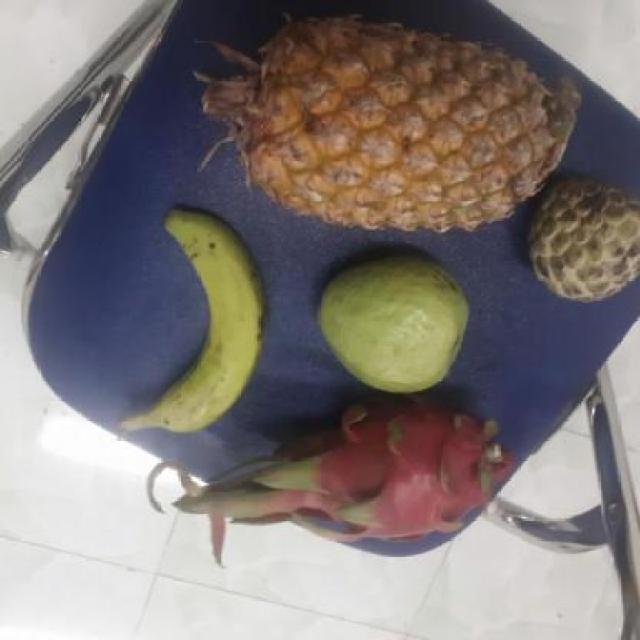banana: (130, 215, 265, 430)
dragon fruit: (296, 393, 504, 545)
guava: (310, 256, 468, 392)
pineapple: (202, 29, 566, 229)
sugar apple: (516, 174, 639, 300)
